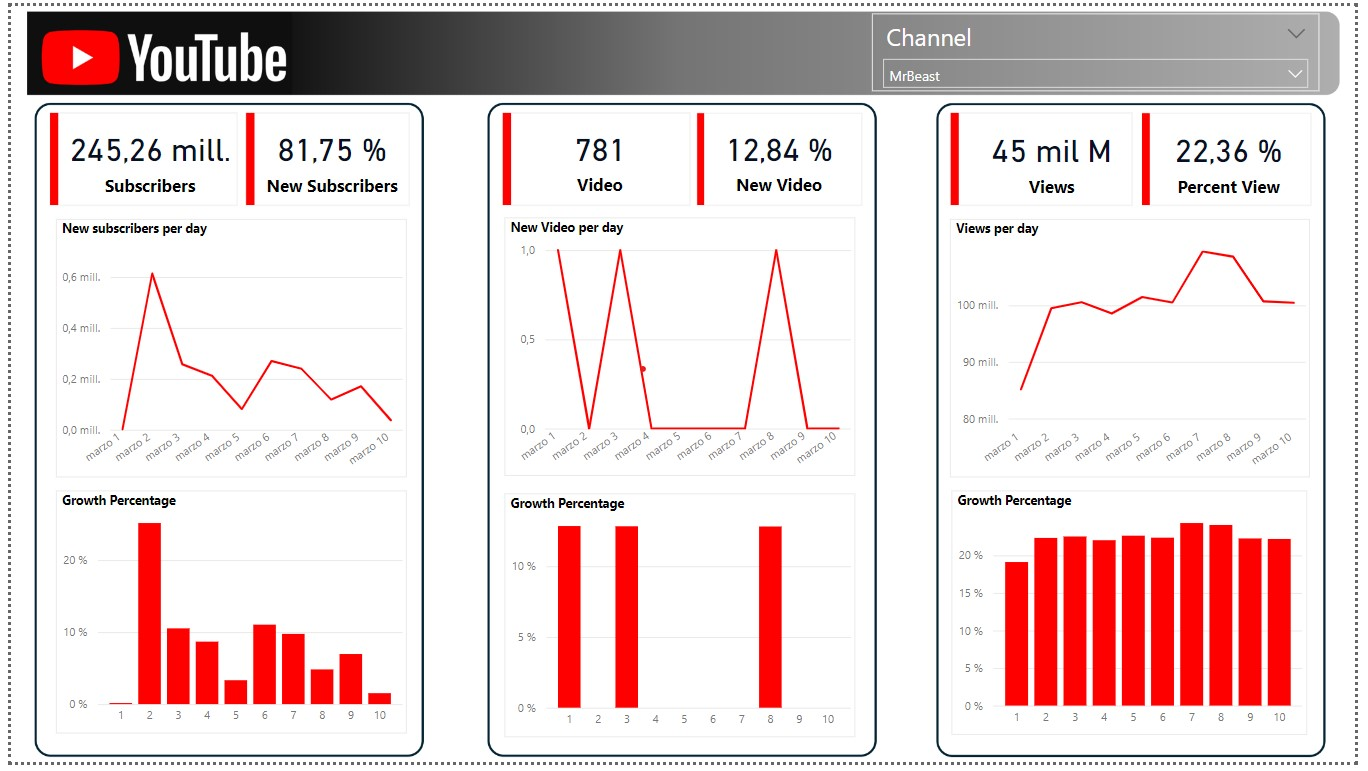

The dashboard page shown, as its layout file describes it:
{"tool":"powerbi","page":{"name":"Página 1","canvas":[1280,720],"ordinal":0},"visuals":[{"type":"image","box":[0,0,1280,720],"z":0},{"type":"slicer","fields":{"Values":["Hoja1.Channel"]},"box":[820,6.9,426.2,73.8],"z":1000},{"type":"card","fields":{"Values":["Hoja1.subscribers"]},"box":[33.3,101.7,198.3,87.5],"z":2000},{"type":"card","fields":{"Values":["Hoja1.percent"]},"box":[216.7,101.7,176.7,87.5],"z":3000},{"type":"lineChart","title":"New subscribers per day","fields":{"Y":["Hoja1.qty_susc"],"Category":["Hoja1.createt_at.Variación.Jerarquía de fechas.Mes","Hoja1.createt_at.Variación.Jerarquía de fechas.Día"]},"box":[42.9,202.9,334.3,245.7],"z":4000},{"type":"clusteredColumnChart","title":"Growth Percentage","fields":{"Category":["Hoja1.createt_at.Variación.Jerarquía de fechas.Día"],"Y":["Hoja1.percent"]},"box":[42.9,461.4,334.3,231.4],"z":5000},{"type":"card","fields":{"Values":["Hoja1.video_count"]},"box":[461.7,99.2,198.3,92.5],"z":6000},{"type":"card","fields":{"Values":["Hoja1.percent video"]},"box":[643.3,99.2,176.7,92.5],"z":7000},{"type":"lineChart","title":"New Video per day","fields":{"Y":["Hoja1.qty_video"],"Category":["Hoja1.createt_at.Variación.Jerarquía de fechas.Mes","Hoja1.createt_at.Variación.Jerarquía de fechas.Día"]},"box":[470,202,334,246],"z":8000},{"type":"clusteredColumnChart","title":"Growth Percentage","fields":{"Category":["Hoja1.createt_at.Variación.Jerarquía de fechas.Día"],"Y":["Hoja1.percent video"]},"box":[469.8,463.8,334,232],"z":9000},{"type":"card","fields":{"Values":["Hoja1.total_views"]},"box":[885.7,98.6,210,95.7],"z":10000},{"type":"card","fields":{"Values":["Hoja1.percent view"]},"box":[1071.4,98.6,175.7,95.7],"z":11000},{"type":"lineChart","title":"Views per day","fields":{"Y":["Hoja1.qty_views"],"Category":["Hoja1.createt_at.Variación.Jerarquía de fechas.Mes","Hoja1.createt_at.Variación.Jerarquía de fechas.Día"]},"box":[894.3,202.9,342.9,245.7],"z":12000},{"type":"clusteredColumnChart","title":"Growth Percentage","fields":{"Category":["Hoja1.createt_at.Variación.Jerarquía de fechas.Día"],"Y":["Hoja1.percent view"]},"box":[895.7,461.4,338.6,232.9],"z":13000}]}

Visuals, with their boxes in screenshot pixels (x1, y1, x2, y2), scaled from the page's 1280x720 canvas onto the 1368x771 screenshot:
image: {"left": 0, "top": 0, "right": 1367, "bottom": 770}
slicer - Hoja1.Channel: {"left": 876, "top": 7, "right": 1332, "bottom": 86}
card - Hoja1.subscribers: {"left": 36, "top": 109, "right": 248, "bottom": 203}
card - Hoja1.percent: {"left": 232, "top": 109, "right": 420, "bottom": 203}
"New subscribers per day" lineChart: {"left": 46, "top": 217, "right": 403, "bottom": 480}
"Growth Percentage" clusteredColumnChart: {"left": 46, "top": 494, "right": 403, "bottom": 742}
card - Hoja1.video_count: {"left": 493, "top": 106, "right": 705, "bottom": 205}
card - Hoja1.percent video: {"left": 688, "top": 106, "right": 876, "bottom": 205}
"New Video per day" lineChart: {"left": 502, "top": 216, "right": 859, "bottom": 480}
"Growth Percentage" clusteredColumnChart: {"left": 502, "top": 497, "right": 859, "bottom": 745}
card - Hoja1.total_views: {"left": 947, "top": 106, "right": 1171, "bottom": 208}
card - Hoja1.percent view: {"left": 1145, "top": 106, "right": 1333, "bottom": 208}
"Views per day" lineChart: {"left": 956, "top": 217, "right": 1322, "bottom": 480}
"Growth Percentage" clusteredColumnChart: {"left": 957, "top": 494, "right": 1319, "bottom": 743}
